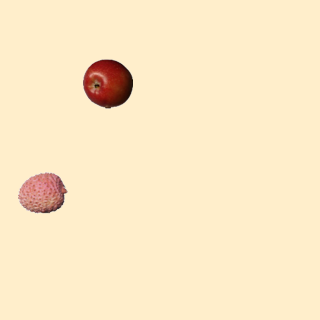Apple Braeburn: (82, 58, 132, 108)
Lychee: (17, 167, 67, 217)
